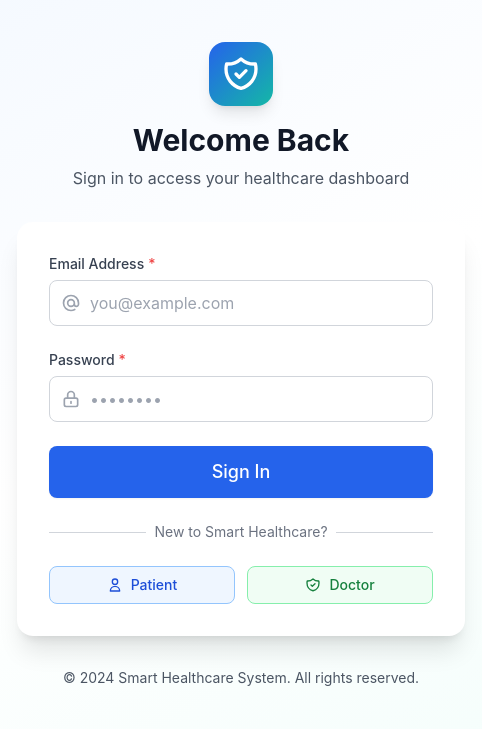
it: Login Component › validates empty form submission
The image size is (482, 729).
Click the button "Sign In" at (241, 472), box [49,446,433,498]
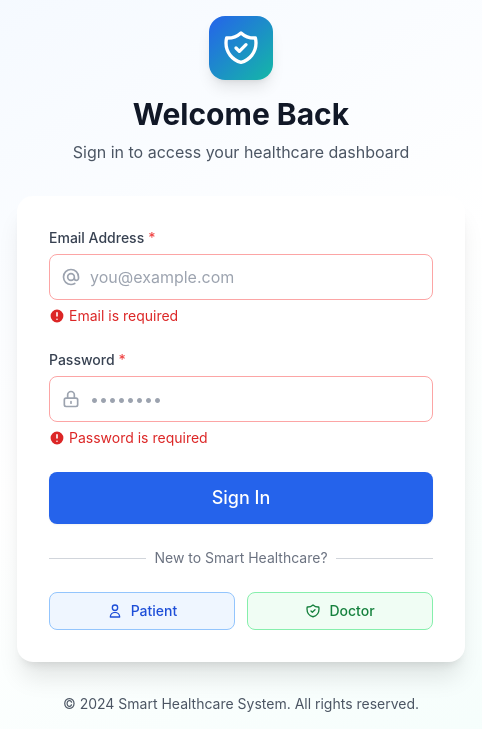
Expected: the text "Email is required" is shown, [49,307,178,324]
Expected: the text "Password is required" is shown, [49,429,208,446]
